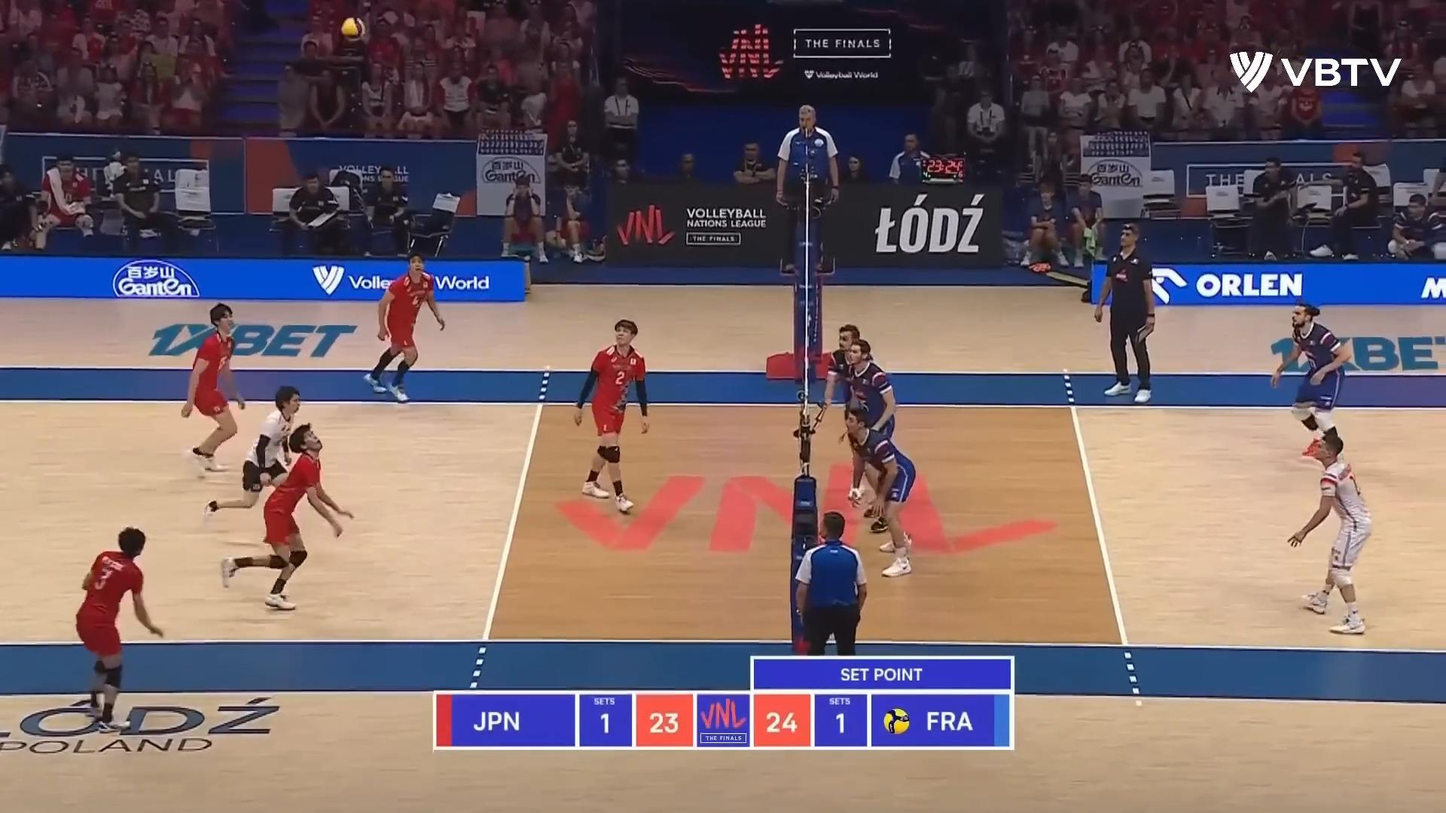ball: (342, 18, 367, 41)
